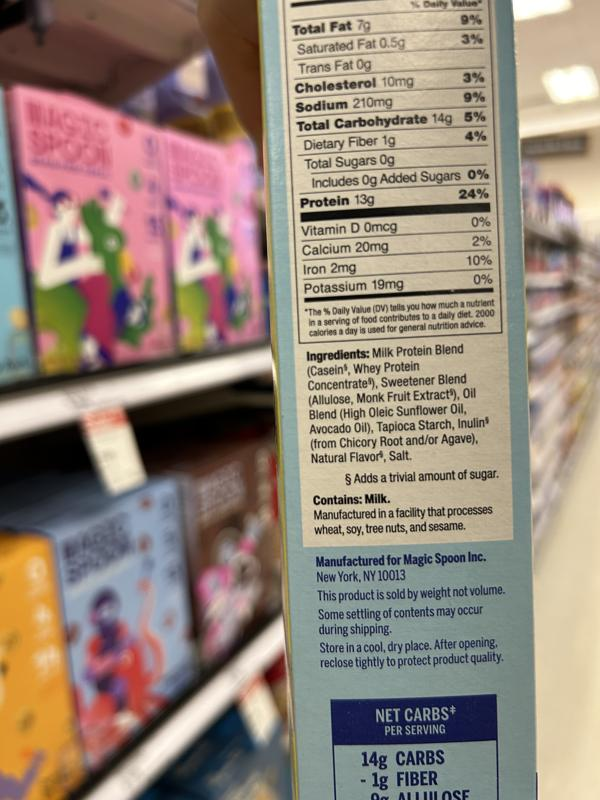ingredients: (304, 343, 492, 465)
